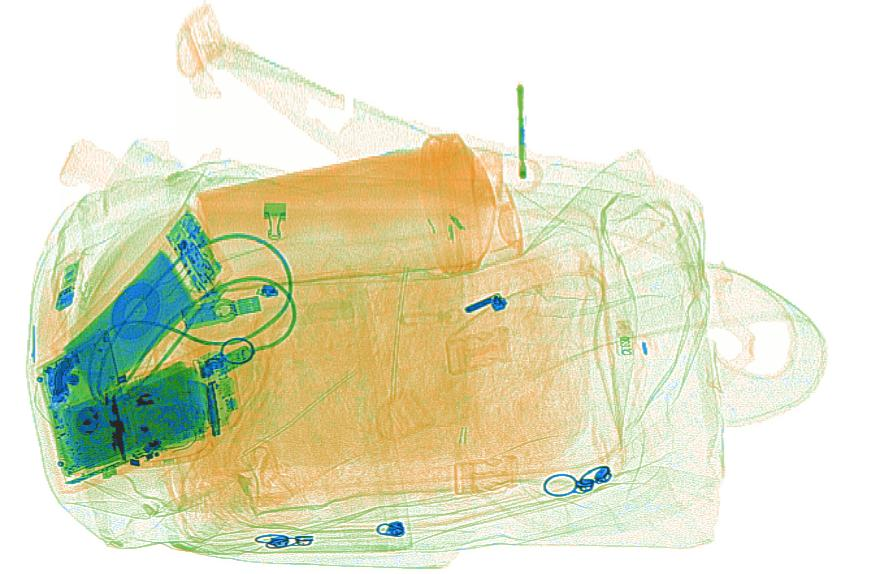USBFlashDisk: (177, 293, 264, 331), (53, 259, 79, 313)
